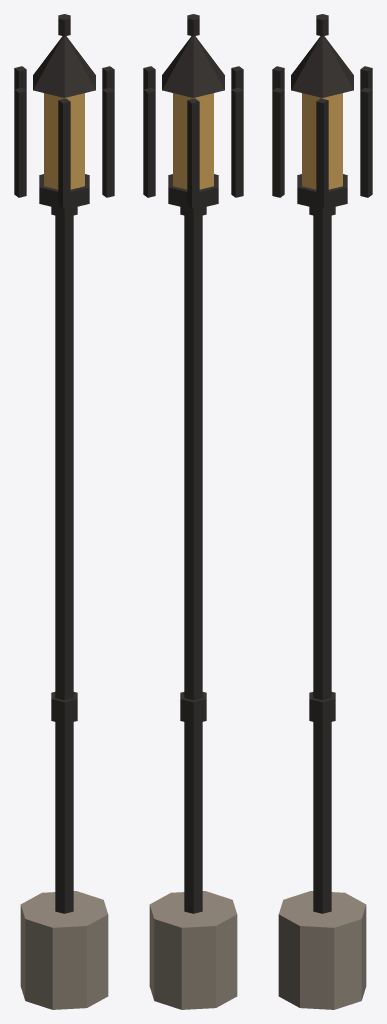
File: street-lamp.glb
The picture shows the model from 3 angles, left to right: view 1: azimuth 30°, elevation 25°; view 2: azimuth 210°, elevation 25°; view 3: azimuth 330°, elevation 25°; orthographic projection.
Parts seen in each view (by area): view 1: props/street-lamp; view 2: props/street-lamp; view 3: props/street-lamp.
Part boxes in pixels (x1,y1,x2,y2): props/street-lamp: [14, 14, 114, 1009]; props/street-lamp: [143, 14, 243, 1009]; props/street-lamp: [272, 14, 372, 1009].
Size of the model in its own units: 0.366 by 3.56 by 0.321.
